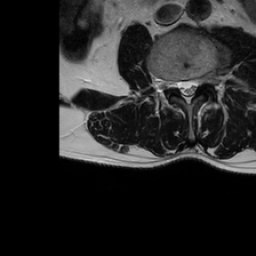CCS_normal: (183, 70, 191, 110)
LFS_normal: (199, 65, 208, 92)
LLS_normal: (191, 69, 199, 100)
RFS_normal: (167, 70, 175, 97)
RLS_normal: (175, 72, 183, 98)
